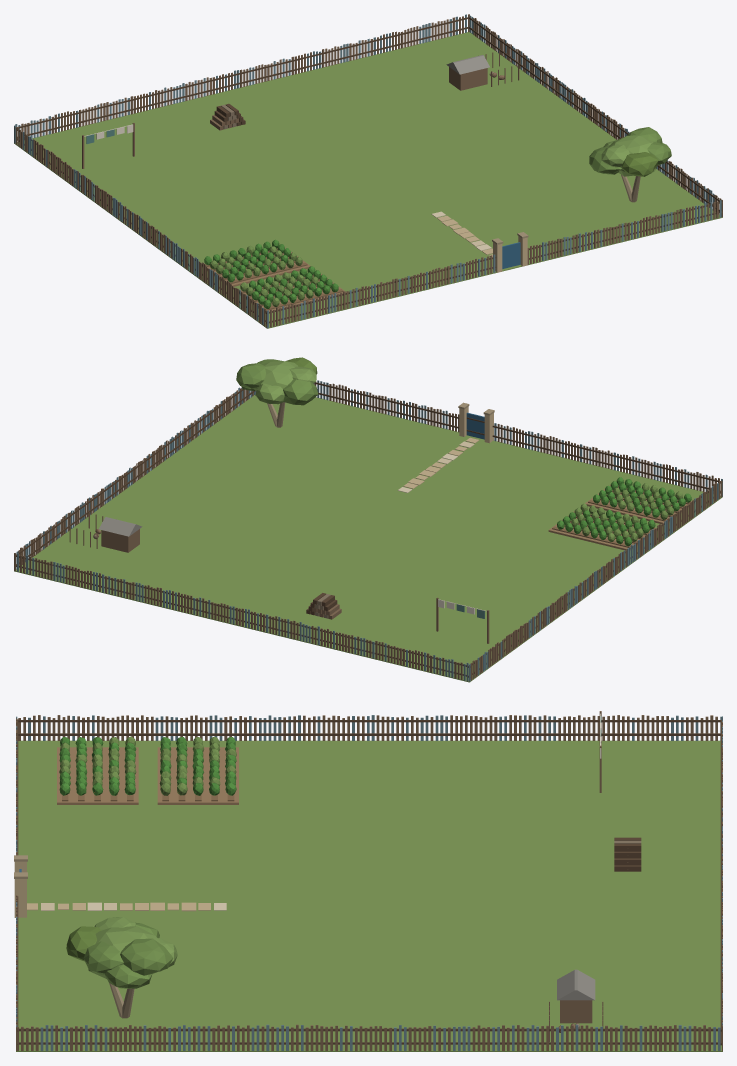
Rendered from bahce-arsasi-sebzeli.glb.
3 views of the same model, one above another, from view 1: azimuth 30°, elevation 25°; view 2: azimuth 150°, elevation 25°; view 3: azimuth 270°, elevation 25° (orthographic). The views are drawn at different scales.
Visible parts, largest first — view 1: cim, ahsap, deniz_ahsap, ahsap_koyu, yaprak1, biber, yaprak3, tas2, toprak2, asma, toprak, sac; view 2: cim, ahsap, deniz_ahsap, ahsap_koyu, yaprak1, biber, yaprak3, tas2, toprak, toprak2; view 3: cim, ahsap, ahsap_koyu, deniz_ahsap, yaprak1, toprak, biber, tas2, yaprak3, sac, asma, tas_koyu.
Boxes of the visible parts, <box> form: cim: <box>14,32,722,328</box>; ahsap: <box>15,14,722,327</box>; deniz_ahsap: <box>14,14,721,328</box>; ahsap_koyu: <box>14,17,722,323</box>; yaprak1: <box>210,127,671,306</box>; biber: <box>204,239,338,308</box>; yaprak3: <box>601,135,657,176</box>; tas2: <box>437,215,527,272</box>; toprak2: <box>205,248,343,310</box>; asma: <box>622,152,658,176</box>; toprak: <box>202,247,346,313</box>; sac: <box>446,55,489,74</box>; cim: <box>14,395,722,682</box>; ahsap: <box>14,383,722,680</box>; deniz_ahsap: <box>16,380,722,681</box>; ahsap_koyu: <box>16,382,722,677</box>; yaprak1: <box>236,359,682,541</box>; biber: <box>557,477,691,546</box>; yaprak3: <box>253,361,316,404</box>; tas2: <box>403,406,493,488</box>; toprak: <box>548,485,694,550</box>; toprak2: <box>552,485,690,547</box>; cim: <box>16,740,722,1051</box>; ahsap: <box>16,711,722,1051</box>; ahsap_koyu: <box>17,719,721,1045</box>; deniz_ahsap: <box>16,715,722,1051</box>; yaprak1: <box>59,736,236,988</box>; toprak: <box>57,747,238,804</box>; biber: <box>59,737,236,795</box>; tas2: <box>14,861,210,917</box>; yaprak3: <box>88,917,177,978</box>; sac: <box>557,969,595,1000</box>; asma: <box>66,926,101,961</box>; tas_koyu: <box>14,855,134,1018</box>.
Size of the model in its own units: 27 by 3.57 by 26.08.
